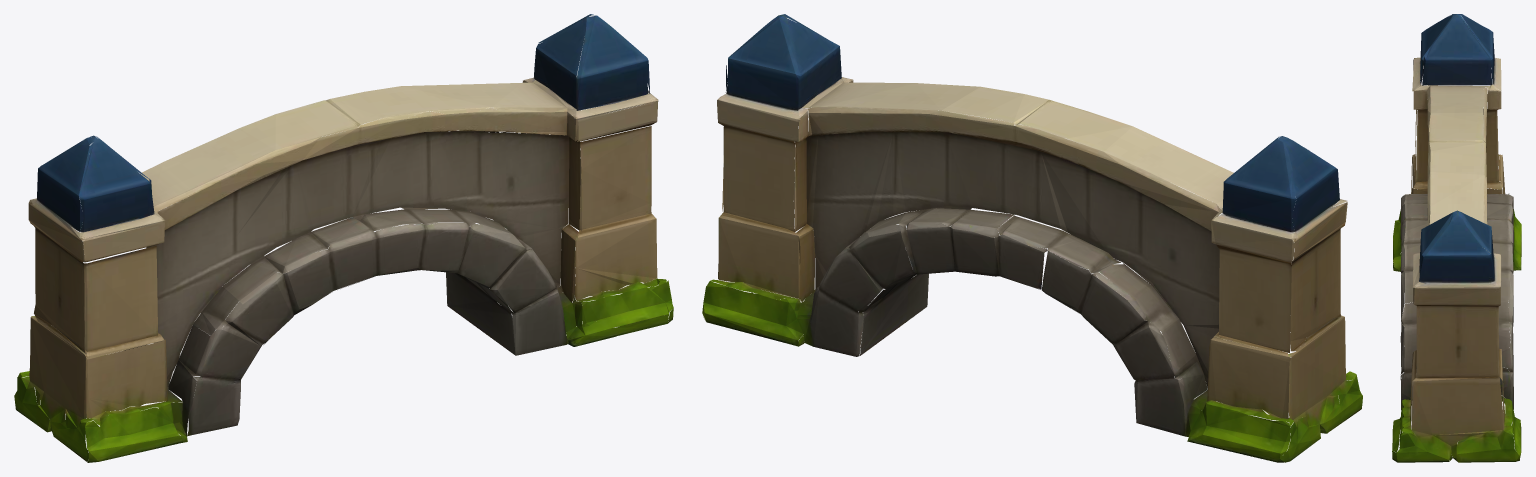
The model's file is stone_arch.glb.
3 views of the same model, side by side, from view 1: azimuth 30°, elevation 25°; view 2: azimuth 150°, elevation 25°; view 3: azimuth 270°, elevation 25° (orthographic). The views are drawn at different scales.
Visible parts, largest first — view 1: geometry_0; view 2: geometry_0; view 3: geometry_0.
Boxes of the visible parts, x1,y1,x2,y2 form: geometry_0: (14, 14, 673, 462); geometry_0: (702, 14, 1362, 462); geometry_0: (1392, 14, 1521, 462).
Size of the model in its own units: 0.9991 by 0.4736 by 0.2357.
1 material, 1 textured.
